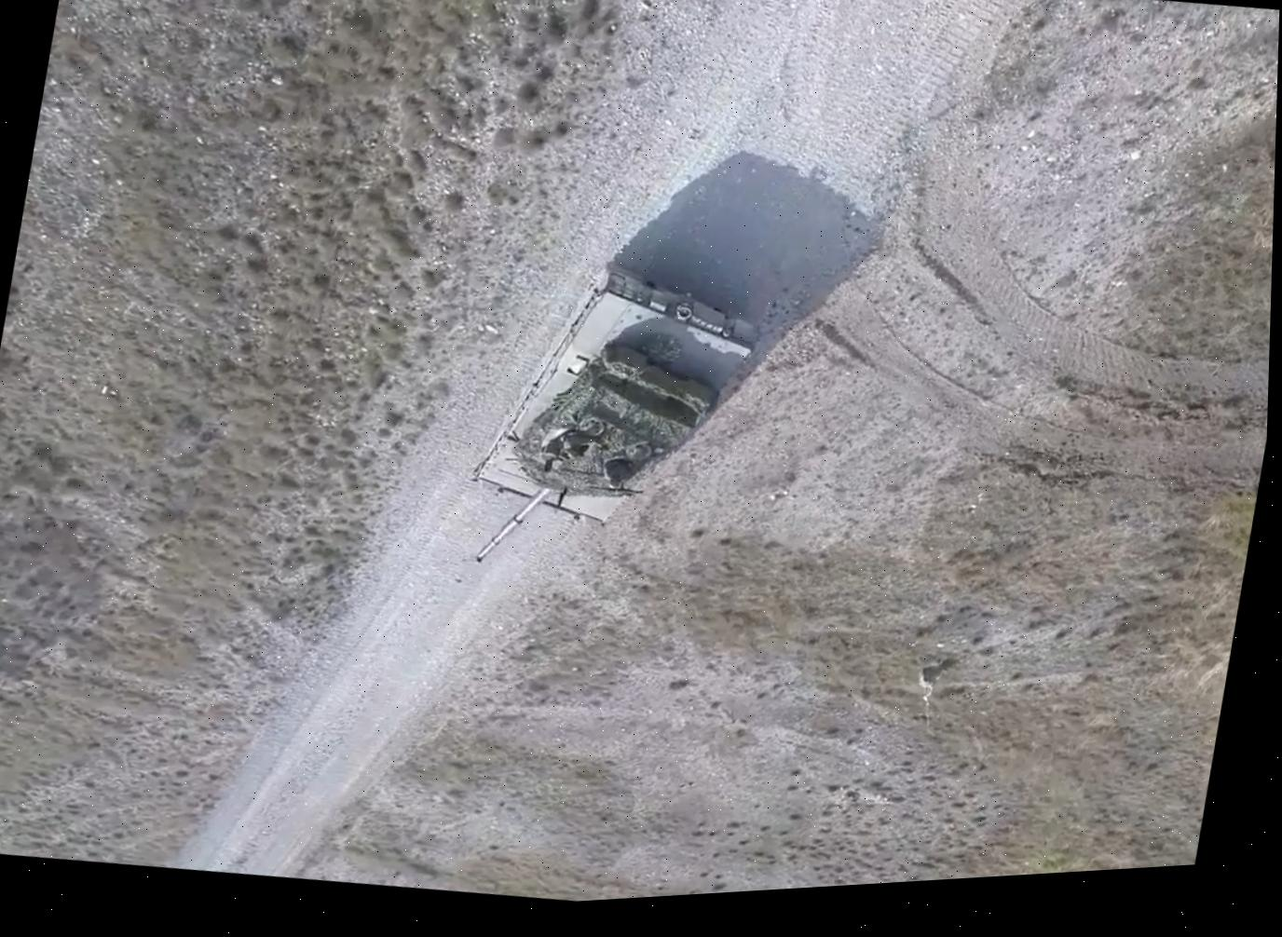tank: (447, 233, 777, 604)
